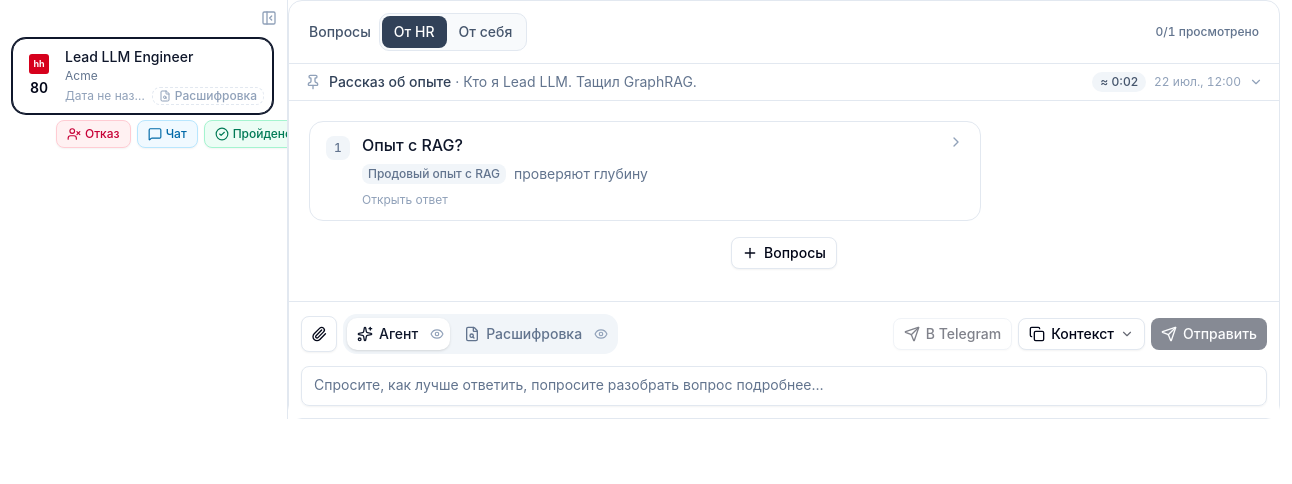
Scenario: per-vacancy экран — «Рассказ об опыте» закреплён вверху ленты › клик по карточке-сообщению раскрывает ответ под вопросом
Click the text "Опыт с RAG?" at (412, 145), box [362, 134, 463, 156]
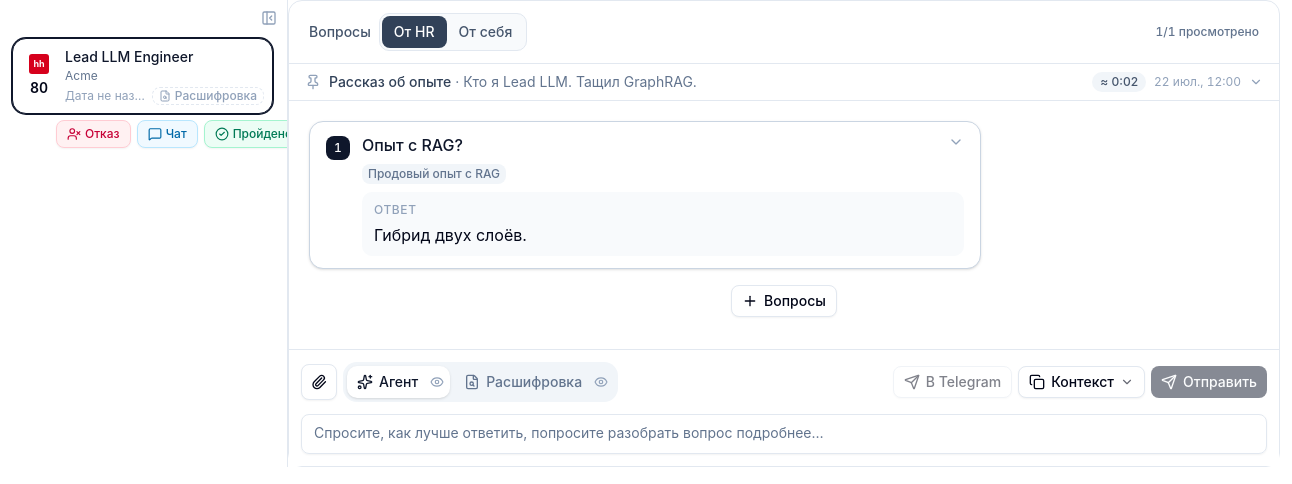
Expected: the text "Гибрид двух слоёв." is shown, [374, 225, 527, 245]
Click the text "Опыт с RAG?" at (412, 145), box [362, 134, 463, 156]
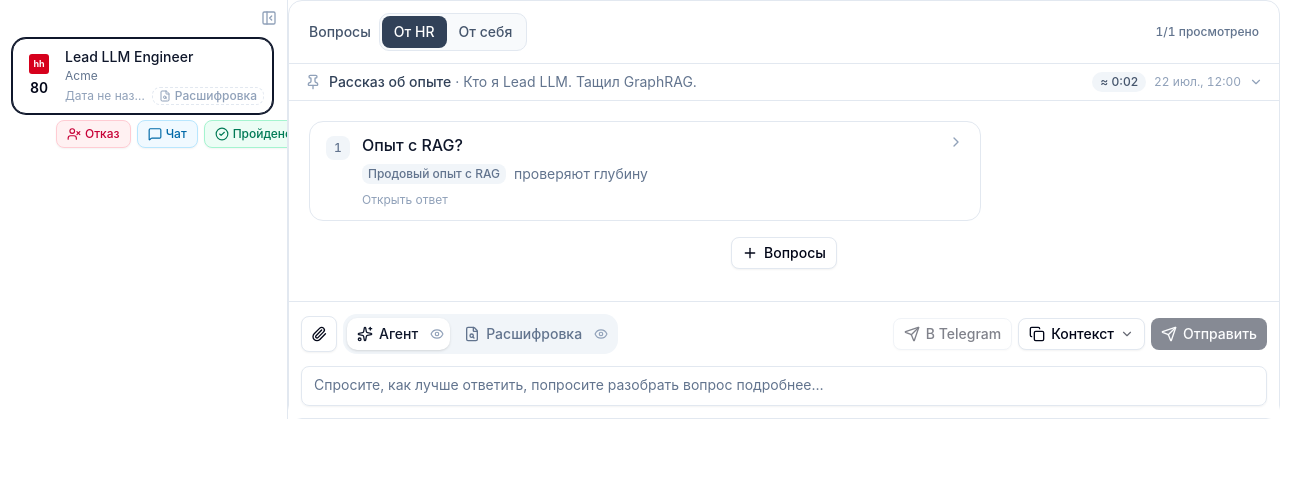
Expected: the text "Гибрид двух слоёв." is gone
